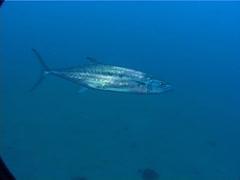Scombridae -Tunas-: (25, 46, 176, 97)
